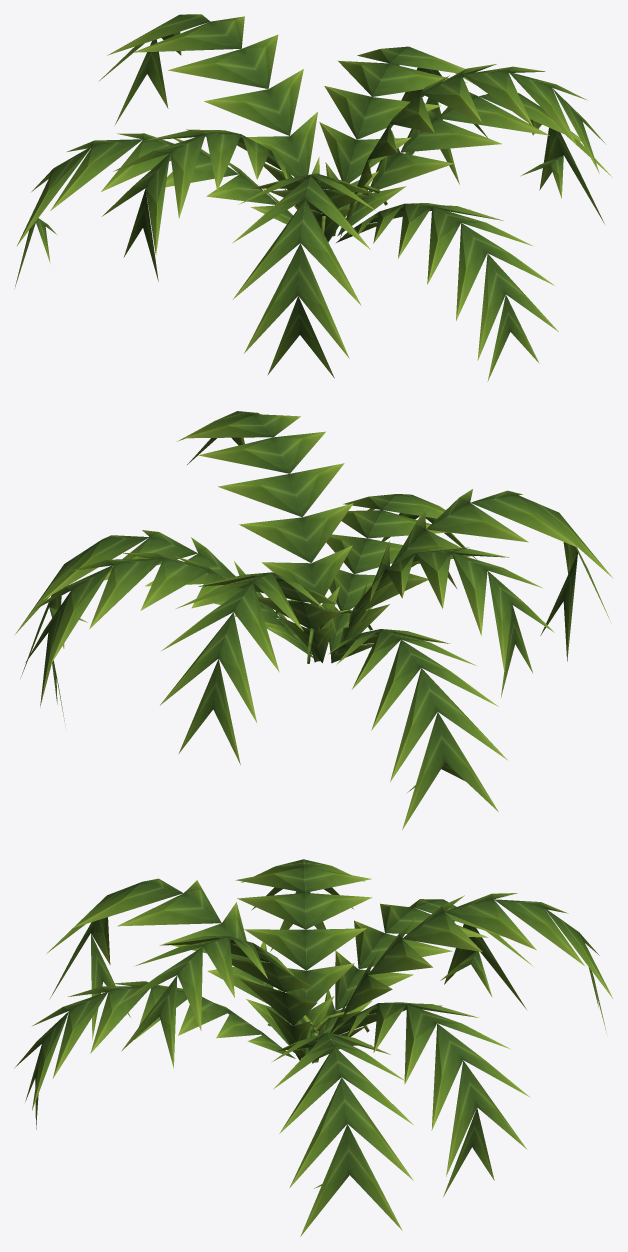
Rendered from fougeres.glb.
The picture shows the model from 3 angles, top to bottom: view 1: azimuth 30°, elevation 25°; view 2: azimuth 150°, elevation 25°; view 3: azimuth 270°, elevation 25°; orthographic projection. The views are drawn at different scales.
Visible parts, largest first — view 1: fougeres; view 2: fougeres; view 3: fougeres.
Part boxes in pixels (<box>): fougeres: <box>14,14,612,381</box>; fougeres: <box>14,411,612,830</box>; fougeres: <box>14,859,612,1236</box>.
Size of the model in its own units: 1.62 by 0.6706 by 1.65.
Materials: 1 (1 with a texture image).
